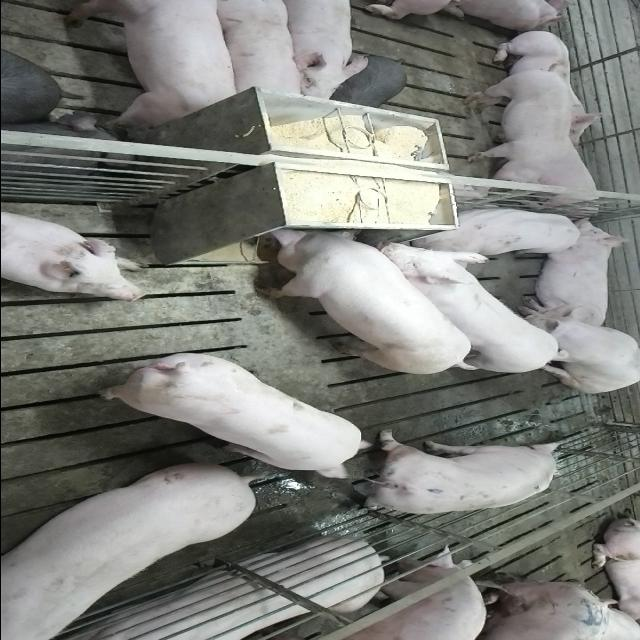Feeding: (254, 219, 476, 371)
Lateral_lying: (50, 539, 492, 640)
Sitting: (507, 306, 639, 394), (421, 204, 580, 260)
Standing: (0, 467, 259, 640), (91, 347, 368, 477), (366, 242, 564, 378), (62, 1, 244, 130), (344, 432, 566, 516), (464, 65, 574, 194), (208, 3, 310, 106), (270, 0, 367, 104)
Sternal_lying: (483, 31, 611, 146), (0, 207, 148, 302), (512, 216, 626, 324)
